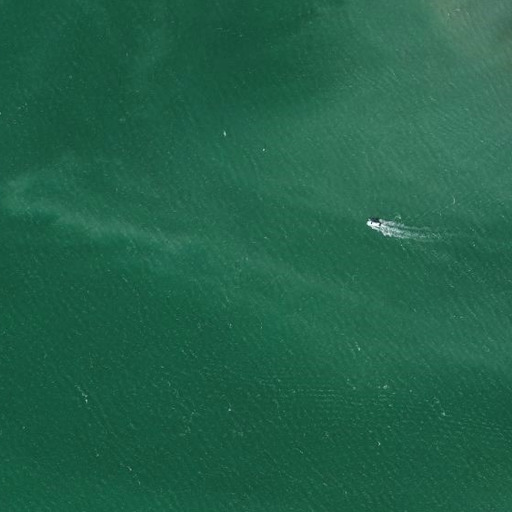ship: (366, 220, 382, 228)
